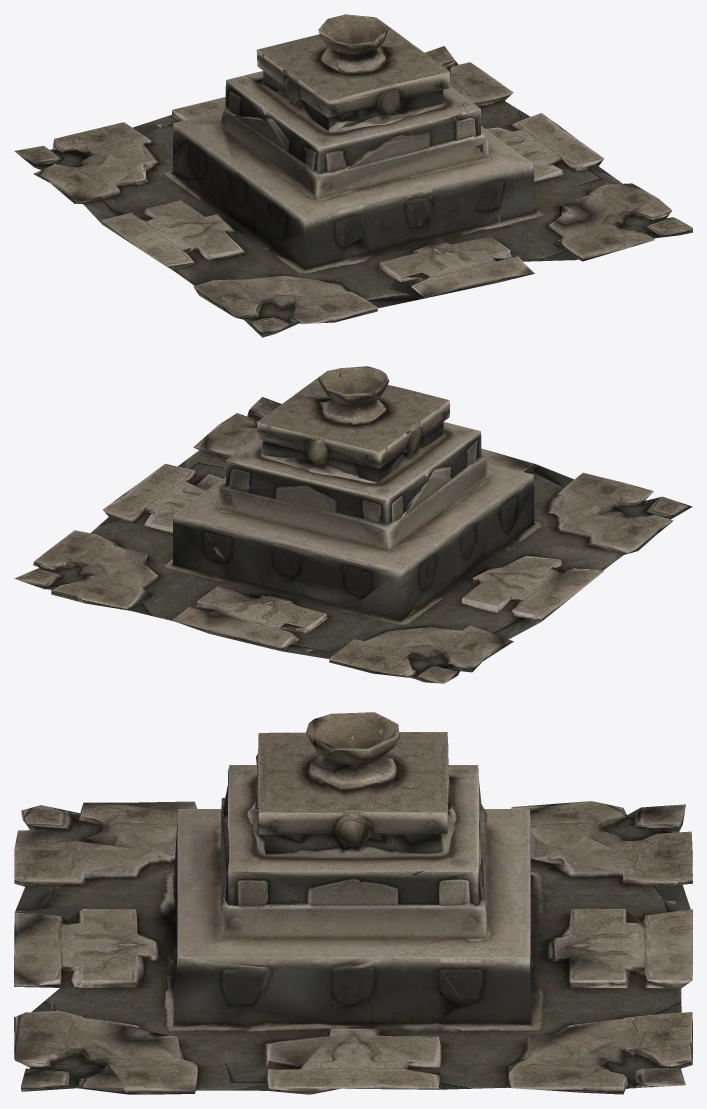
File: plinth.glb
The picture shows the model from 3 angles, top to bottom: view 1: azimuth 30°, elevation 25°; view 2: azimuth 150°, elevation 25°; view 3: azimuth 270°, elevation 25°; orthographic projection. The views are drawn at different scales.
Size of the model in its own units: 1.9 by 0.6876 by 1.9.
Materials: 1 (1 with a texture image).
